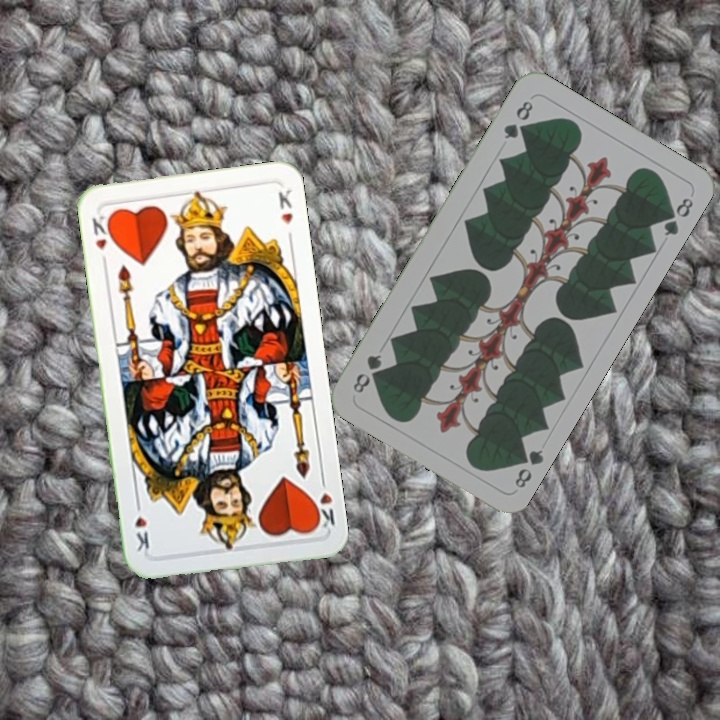G8: (499, 96, 536, 142), (510, 444, 546, 491)
HK: (308, 472, 337, 531), (88, 209, 115, 253)
